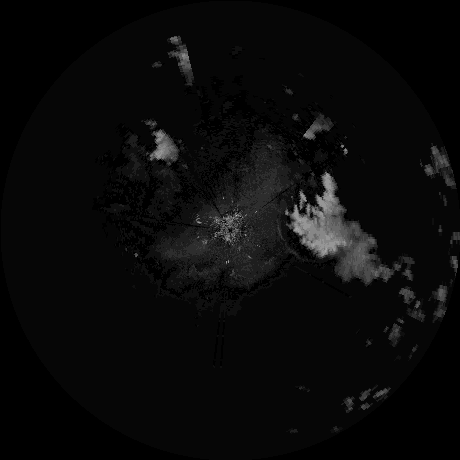frontgust: (273, 219, 287, 247)
